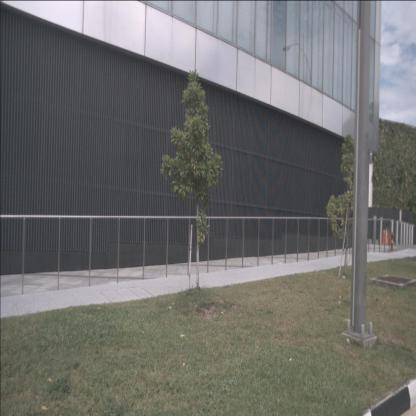cone: (381, 228, 386, 245), (386, 229, 390, 245), (385, 227, 388, 245), (384, 231, 387, 246)
